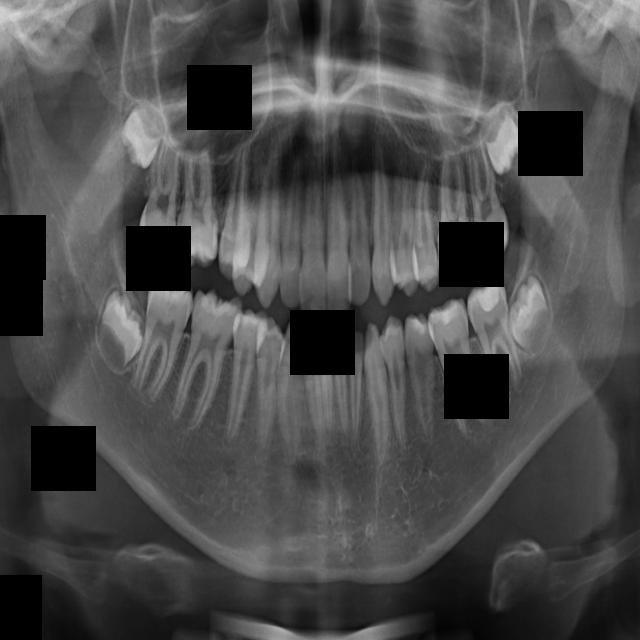3M ESPE Implant: (109, 93, 172, 172)
AGS Medikal Implant: (516, 342, 516, 344)
AMerOss Implant: (425, 296, 492, 441)
Amalgam filling: (136, 127, 185, 261)
Anthogyr Implant: (402, 310, 440, 450)
Bicon Implant: (387, 370, 388, 371)
BioHorizons Implant: (358, 320, 399, 472)
BioLife Implant: (349, 328, 363, 449)
Biomet 3i Implant: (333, 327, 351, 441)
Blue Sky Bio Implant: (317, 324, 342, 442)
Camlog Implant: (298, 324, 326, 446)
Caries: (345, 157, 372, 307)
Composite filling: (276, 390, 276, 391)
Cowellmedi Implant: (252, 309, 277, 453)
Crown: (224, 308, 258, 447)
DENTSPLY Implant: (175, 144, 224, 270)
Dentatus Implant: (168, 284, 246, 436)
Dentis Implant: (140, 350, 140, 352)
Dentium Implant: (91, 287, 147, 372)
Euroteknika Implant: (211, 130, 255, 280)
Filling: (229, 155, 262, 298)
Frontier Implant: (251, 126, 288, 310)
Hiossen Implant: (366, 131, 395, 307)
Implant: (295, 138, 326, 318)
Implant Direct: (277, 148, 306, 309)
Keystone Dental Implant: (322, 136, 351, 317)
MIS Implant: (387, 151, 419, 299)
Mandible: (409, 151, 440, 293)
Maxilla: (426, 150, 478, 283)
Megagen Implant: (493, 169, 494, 170)
Neodent Implant: (476, 99, 532, 178)
Neoss Implant: (504, 272, 558, 359)
